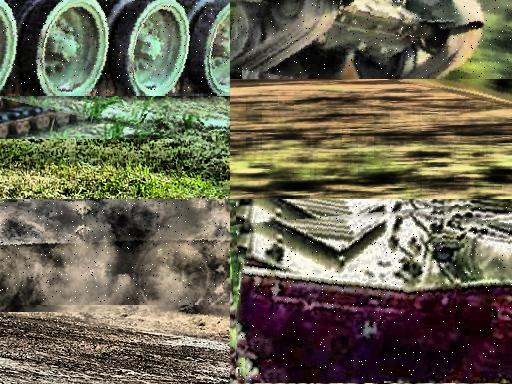tanks: (235, 208, 512, 383), (1, 200, 231, 305), (1, 1, 231, 96), (231, 1, 483, 79)
